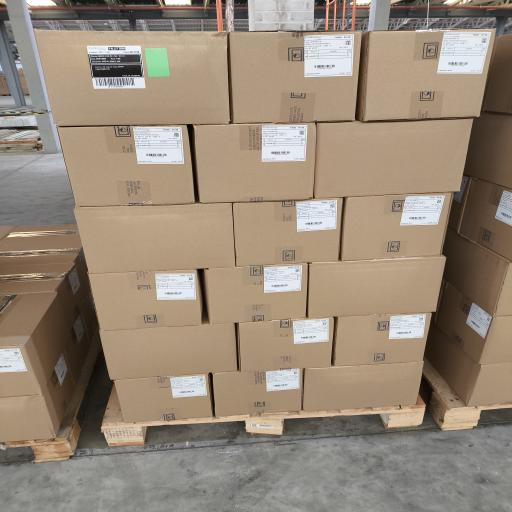pallet: (102, 387, 425, 446), (4, 331, 101, 463), (423, 359, 511, 430)
